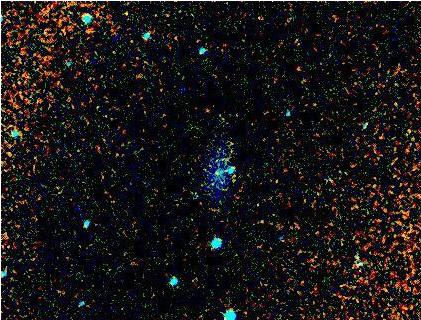star: (72, 18, 102, 48)
